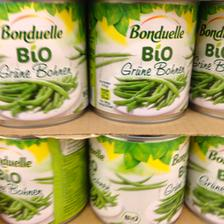Bohnen: (88, 0, 196, 124), (0, 1, 84, 126), (86, 134, 188, 222), (0, 132, 84, 220)
